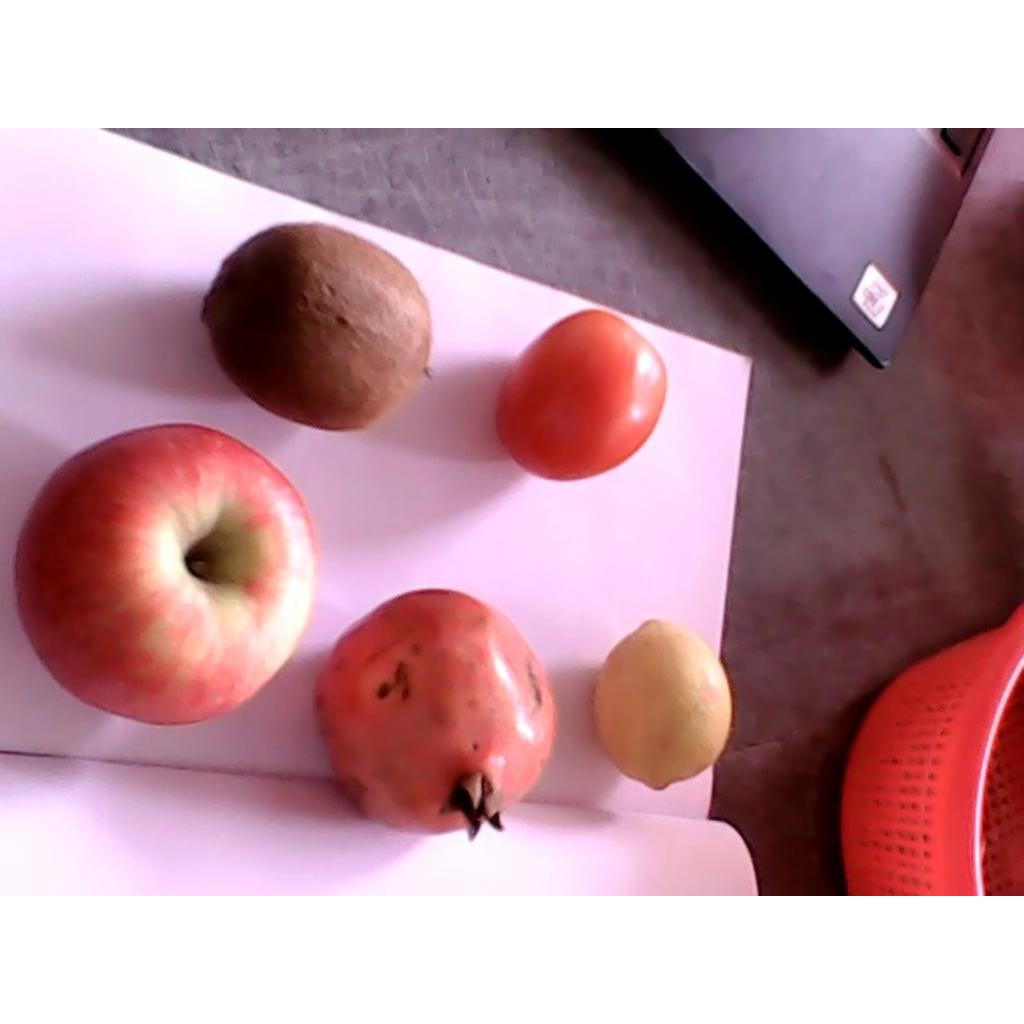apple: (15, 421, 316, 724)
kiwi: (203, 224, 434, 432)
lemon: (593, 619, 731, 791)
pomegranate: (313, 589, 555, 841)
tomato: (496, 311, 666, 479)
